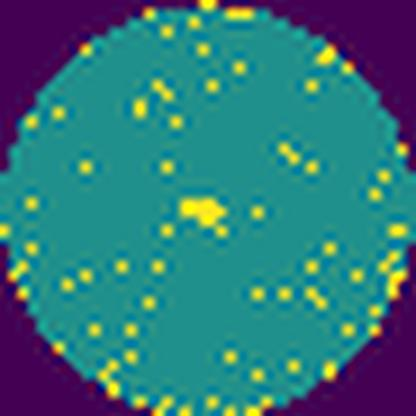Center: (178, 195, 227, 229)
